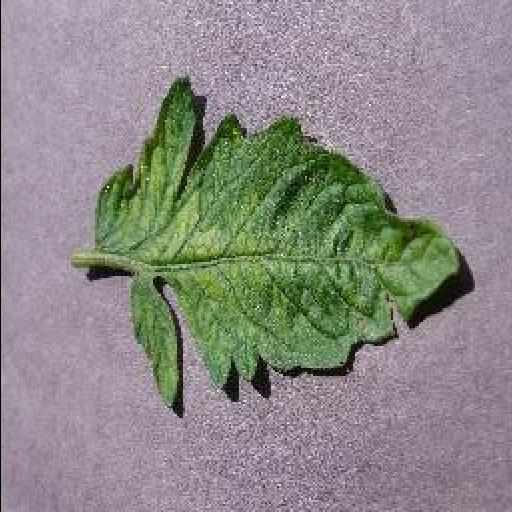Mosaic Virus: (94, 78, 466, 412)
